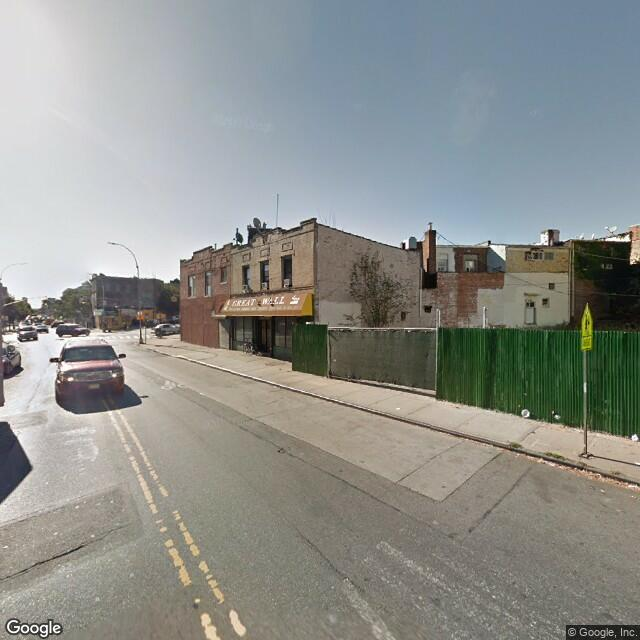litter: (239, 338, 268, 358), (511, 402, 536, 422), (626, 420, 639, 447), (551, 404, 565, 426)
